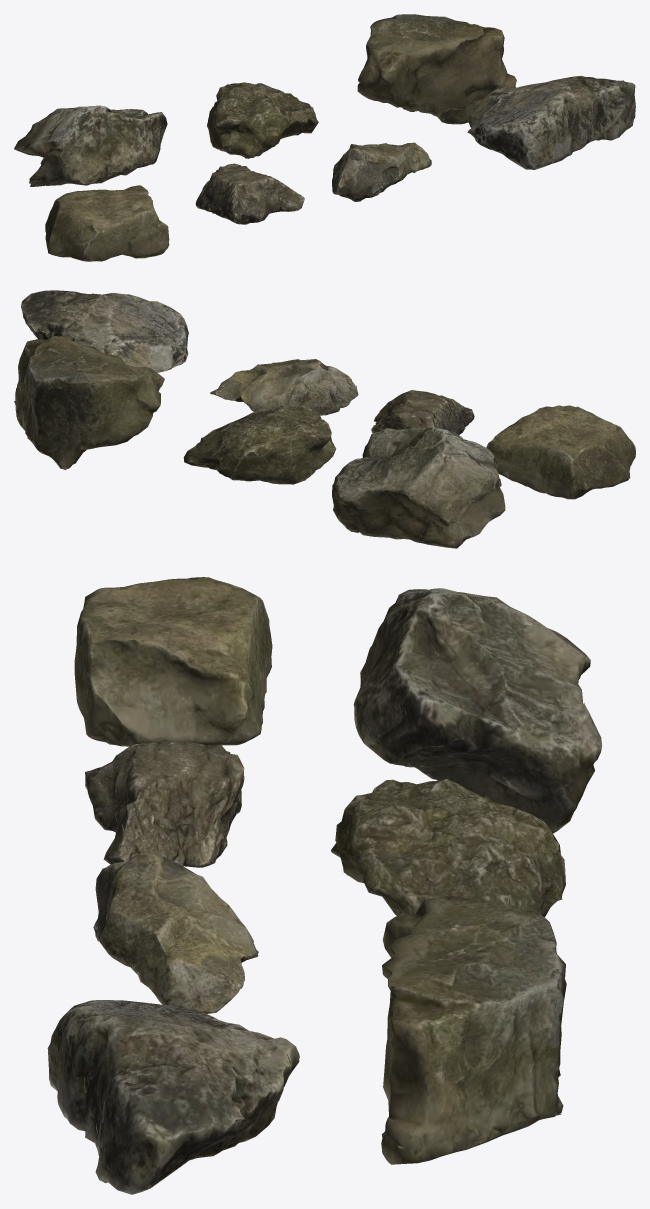
Rendered from rock_moss_set_02.glb.
3 views of the same model, one above another, from view 1: azimuth 30°, elevation 25°; view 2: azimuth 150°, elevation 25°; view 3: azimuth 270°, elevation 25° (orthographic). The views are drawn at different scales.
Parts seen in each view (by area): view 1: rock_moss_set_02_rock13, rock_moss_set_02_rock10, rock_moss_set_02_rock11, rock_moss_set_02_rock07, rock_moss_set_02_rock12, rock_moss_set_02_rock08, rock_moss_set_02_rock09; view 2: rock_moss_set_02_rock11, rock_moss_set_02_rock13, rock_moss_set_02_rock07, rock_moss_set_02_rock10, rock_moss_set_02_rock12, rock_moss_set_02_rock09, rock_moss_set_02_rock08; view 3: rock_moss_set_02_rock13, rock_moss_set_02_rock11, rock_moss_set_02_rock10, rock_moss_set_02_rock07, rock_moss_set_02_rock12, rock_moss_set_02_rock09, rock_moss_set_02_rock08.
Part boxes in pixels (x1,y1,x2,y2): rock_moss_set_02_rock13: (357,14,516,124); rock_moss_set_02_rock10: (467,76,635,169); rock_moss_set_02_rock11: (14,105,167,186); rock_moss_set_02_rock07: (45,185,169,261); rock_moss_set_02_rock12: (207,82,318,158); rock_moss_set_02_rock08: (195,163,304,224); rock_moss_set_02_rock09: (332,142,431,201); rock_moss_set_02_rock11: (332,427,505,548); rock_moss_set_02_rock13: (14,336,164,469); rock_moss_set_02_rock07: (486,405,635,499); rock_moss_set_02_rock10: (21,290,188,372); rock_moss_set_02_rock12: (183,406,336,484); rock_moss_set_02_rock09: (210,359,358,415); rock_moss_set_02_rock08: (371,390,474,435); rock_moss_set_02_rock13: (381,895,566,1164); rock_moss_set_02_rock11: (353,588,602,833); rock_moss_set_02_rock10: (47,1000,299,1194); rock_moss_set_02_rock07: (74,577,272,746); rock_moss_set_02_rock12: (331,779,565,916); rock_moss_set_02_rock09: (93,852,258,1013); rock_moss_set_02_rock08: (85,741,244,867).
Size of the model in its own units: 8.28 by 1.36 by 3.41.
1 material, 1 textured.
